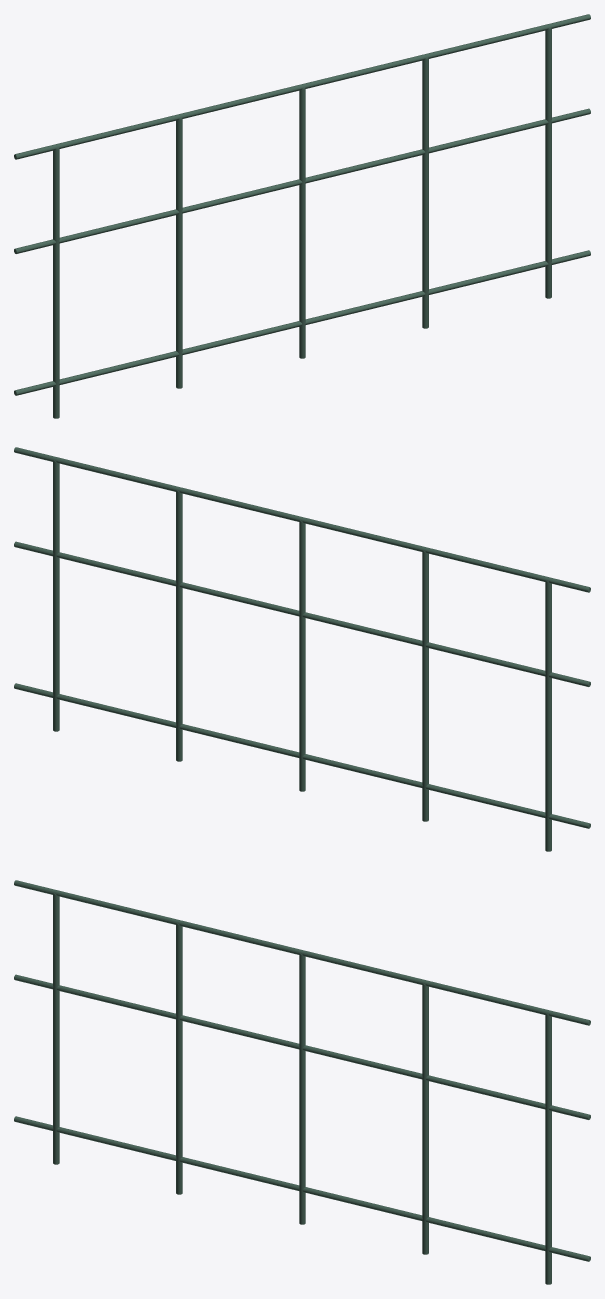
Rendered from west.glb.
3 renders of one model, top to bottom at view 1: azimuth 30°, elevation 25°; view 2: azimuth 150°, elevation 25°; view 3: azimuth 330°, elevation 25°, orthographic.
Visible parts, largest first — view 1: garden-conservatory west; view 2: garden-conservatory west; view 3: garden-conservatory west.
Boxes of the visible parts, x1,y1,x2,y2 form: garden-conservatory west: (14,14,590,418); garden-conservatory west: (14,447,590,851); garden-conservatory west: (14,880,590,1284).
Bounding box in the file's own units: 7 × 3.18 × 0.07.
